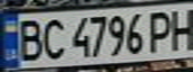4: (66, 13, 90, 60)
6: (124, 10, 151, 55)
7: (87, 12, 109, 59)
9: (106, 11, 130, 56)
B: (12, 16, 45, 62)
C: (36, 15, 69, 61)
H: (166, 4, 193, 52)
P: (145, 7, 178, 53)
